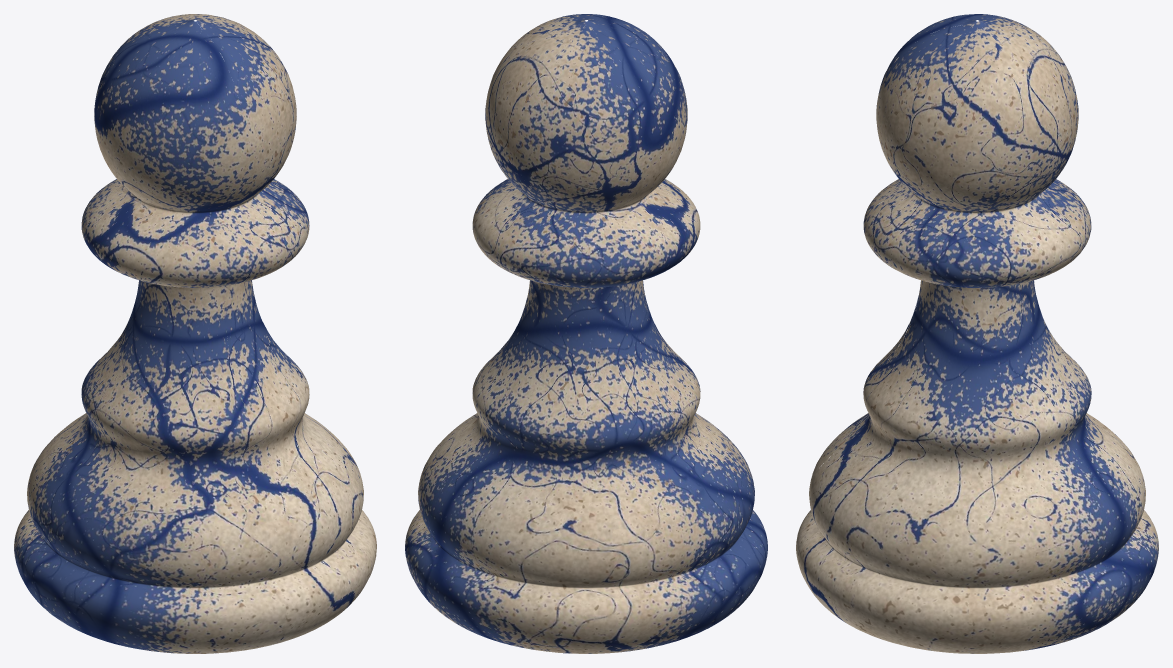
Rendered from pawn-white-hd.glb.
3 renders of one model, left to right at view 1: azimuth 30°, elevation 25°; view 2: azimuth 150°, elevation 25°; view 3: azimuth 270°, elevation 25°, orthographic.
Parts seen in each view (by area): view 1: Cobalt Vein white pawn; view 2: Cobalt Vein white pawn; view 3: Cobalt Vein white pawn.
Boxes of the visible parts, box(x1,y1,x2,y2) form: Cobalt Vein white pawn: box(14, 14, 376, 653); Cobalt Vein white pawn: box(405, 14, 767, 653); Cobalt Vein white pawn: box(796, 14, 1158, 653).
Bounding box in the file's own units: 0.4921 × 0.8592 × 0.4921.
1 material, 1 textured.
